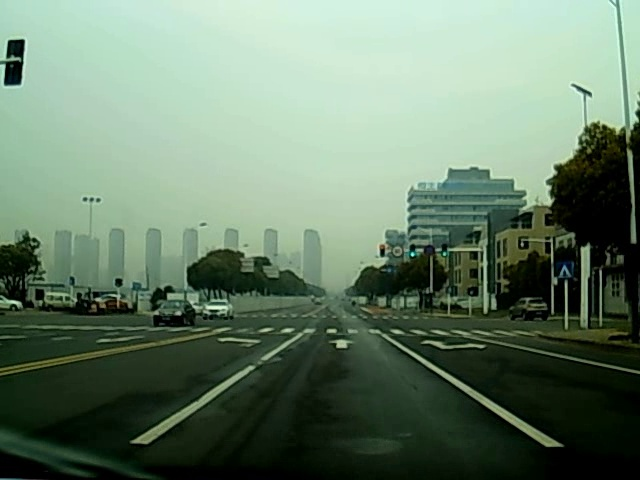Traffic_Light_go: (410, 246, 416, 260), (441, 244, 447, 258)
Traffic_Light_stop: (379, 244, 386, 259)
